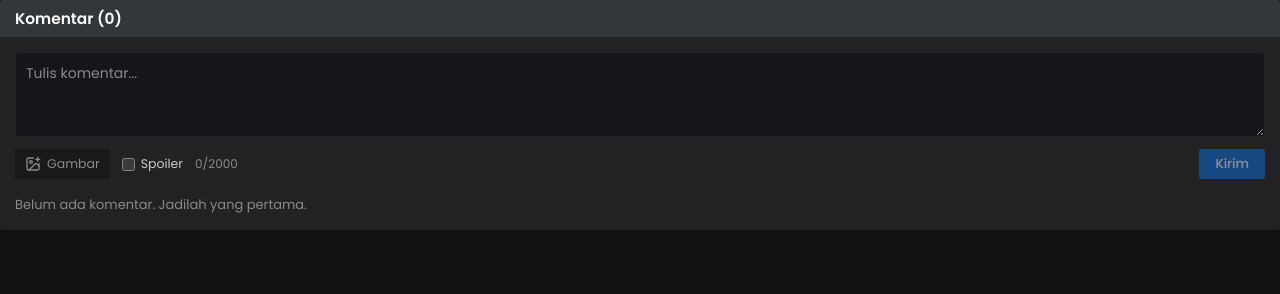
Test: Comments › does not duplicate my own comment when the live event arrives before the response
This screenshot has width=1280, height=294.
Expected: the text "Belum ada komentar. Jadilah yang pertama." is shown, x1=15 y1=195 x2=307 y2=214
In the text box: (640, 94) x1=15 y1=52 x2=1265 y2=137, type "cepat sekali"
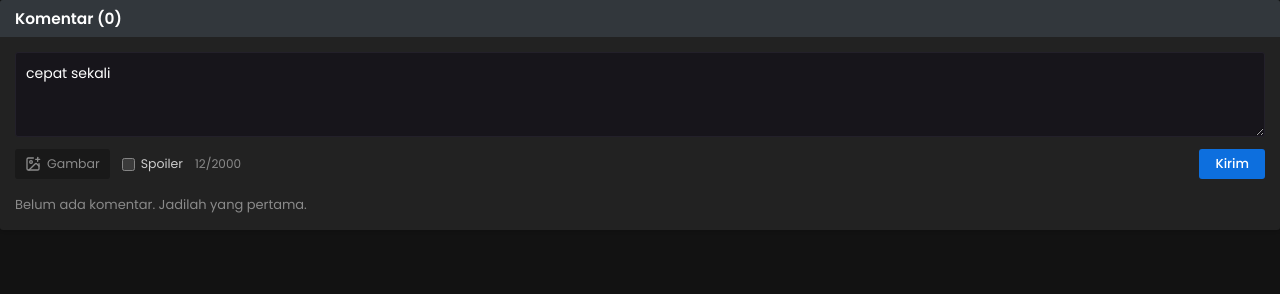
Click the button "Kirim": (1232, 164) x1=1199 y1=149 x2=1265 y2=179
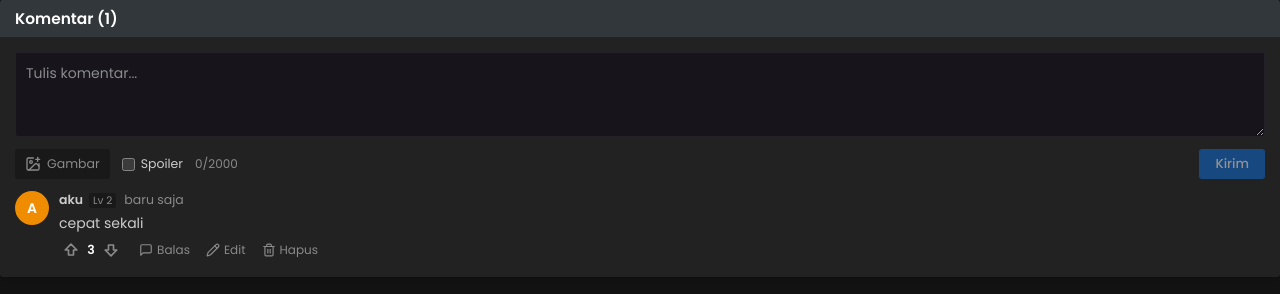
Expected: the text "cepat sekali" is shown once, x1=59 y1=213 x2=144 y2=233
Expected: the button "Edit" is shown, x1=206 y1=241 x2=246 y2=259
